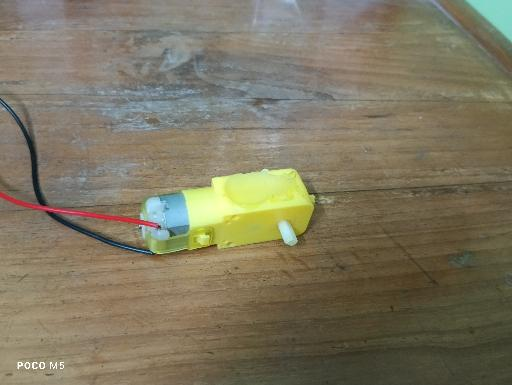Motor: (140, 168, 315, 256)
